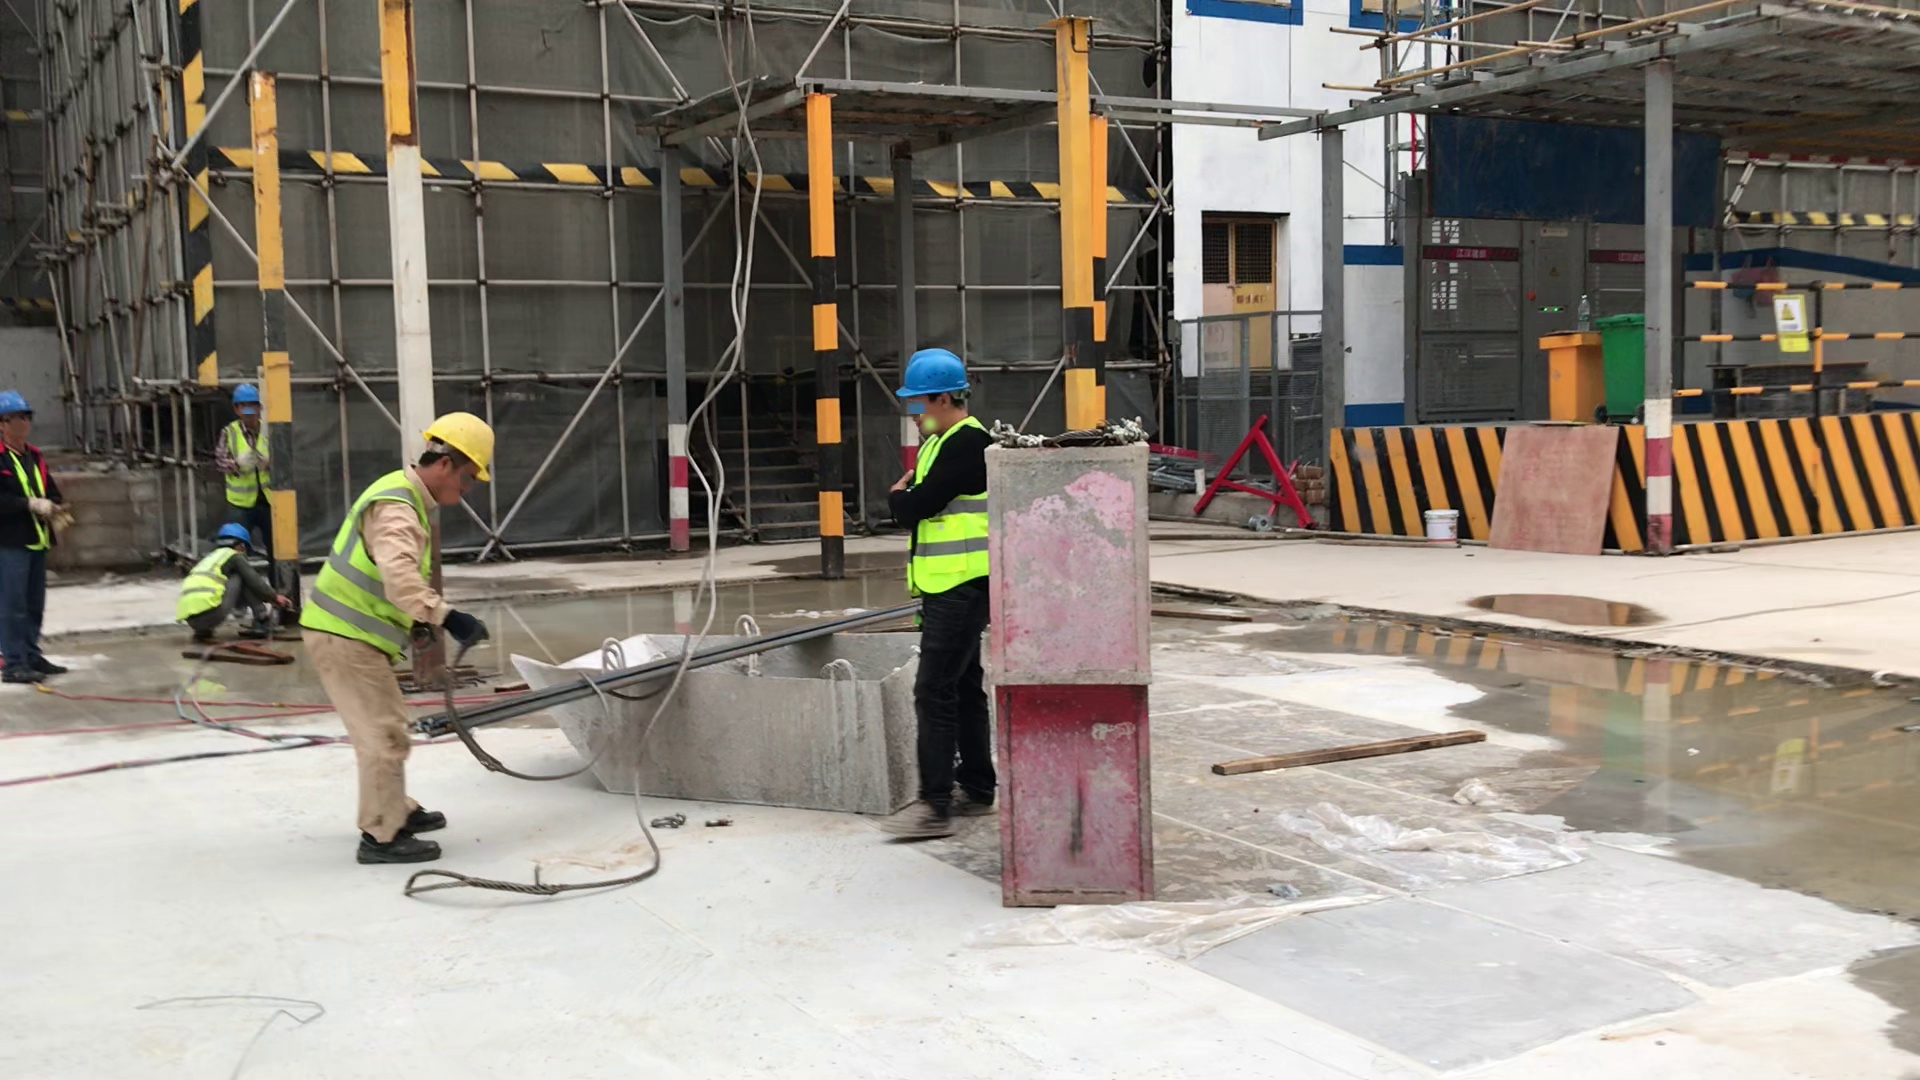fence: (1672, 266, 1920, 420)
helmet: (417, 406, 504, 484), (889, 343, 989, 404), (5, 377, 43, 424), (223, 373, 267, 408), (206, 519, 261, 543)
hopper: (496, 603, 952, 847)
person: (306, 396, 516, 866), (877, 342, 1011, 856), (1, 391, 85, 692), (174, 515, 298, 668), (221, 377, 285, 554)
rebar: (408, 600, 925, 739)
slogan: (1763, 282, 1818, 364)
vest: (300, 472, 454, 668), (894, 419, 1000, 600), (2, 449, 67, 557), (173, 547, 247, 635), (216, 418, 282, 507)
